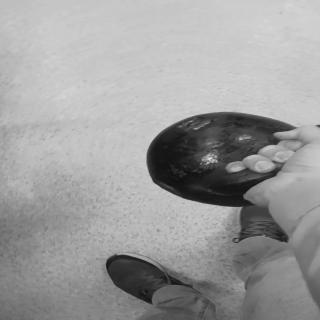girya: (146, 113, 320, 207)
